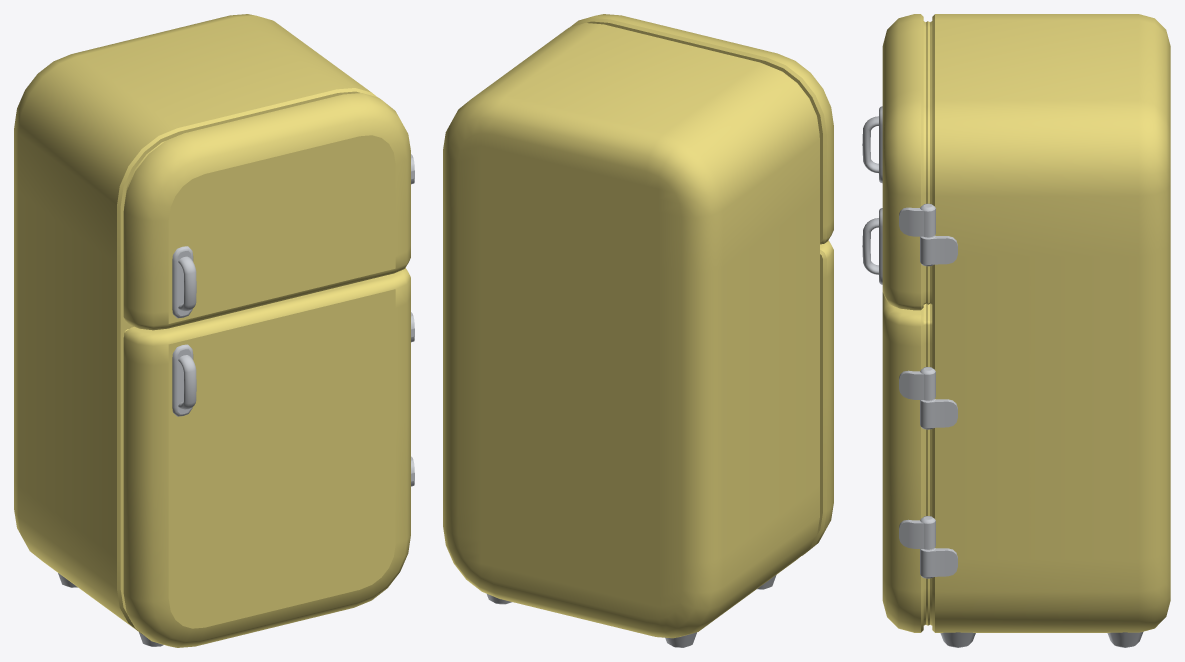
The model's file is Fridgerer.glb.
3 views of the same model, side by side, from view 1: azimuth 30°, elevation 25°; view 2: azimuth 150°, elevation 25°; view 3: azimuth 270°, elevation 25° (orthographic). The views are drawn at different scales.
Parts seen in each view (by area): view 1: Door_lower, Fridge, Door_upper; view 2: Fridge, Door_upper, Door_lower; view 3: Fridge, Door_lower, Door_upper.
Part boxes in pixels (bbox=[...]): Door_lower: bbox=[123, 268, 414, 647]; Fridge: bbox=[14, 14, 377, 646]; Door_upper: bbox=[123, 93, 414, 330]; Fridge: bbox=[443, 23, 819, 647]; Door_upper: bbox=[570, 14, 833, 244]; Door_lower: bbox=[802, 240, 833, 555]; Fridge: bbox=[920, 14, 1170, 647]; Door_lower: bbox=[862, 208, 935, 632]; Door_upper: bbox=[862, 14, 935, 310].
Size of the model in its own units: 1.06 by 1.84 by 0.9551.
Materials: 4 (3 with a texture image).
